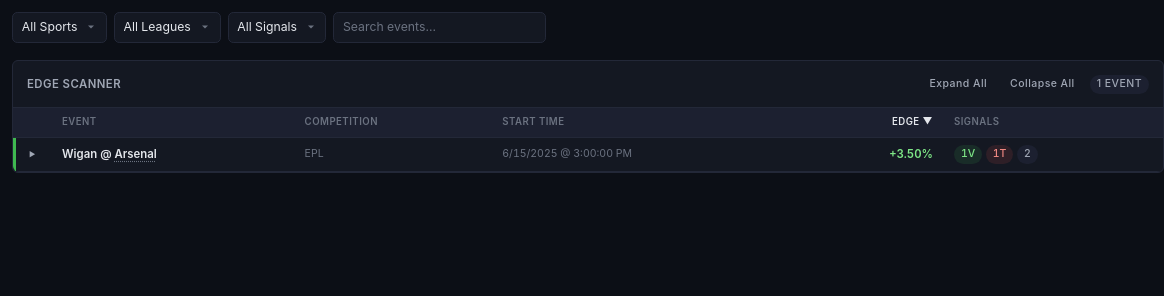
it: DashboardPage › Expand All / Collapse All buttons work
Click the button "Expand All": click(958, 84) [922,72,995,97]
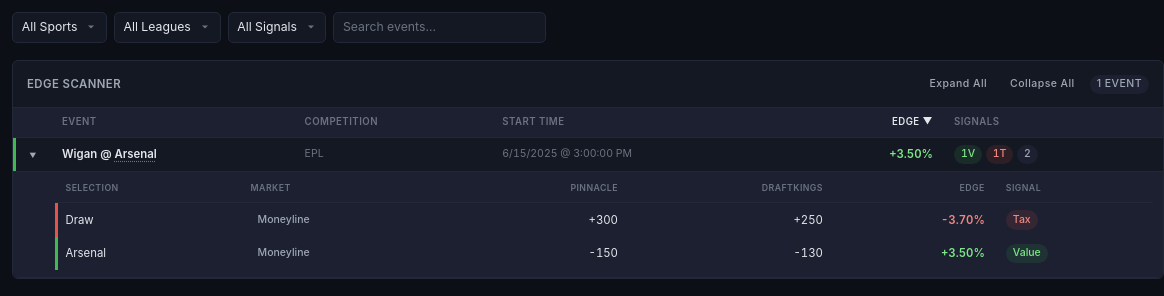
Expected: the text "Draw" is shown, [55,203,240,237]
Click the button "Collapse All": click(1042, 84) [1002,72,1083,97]
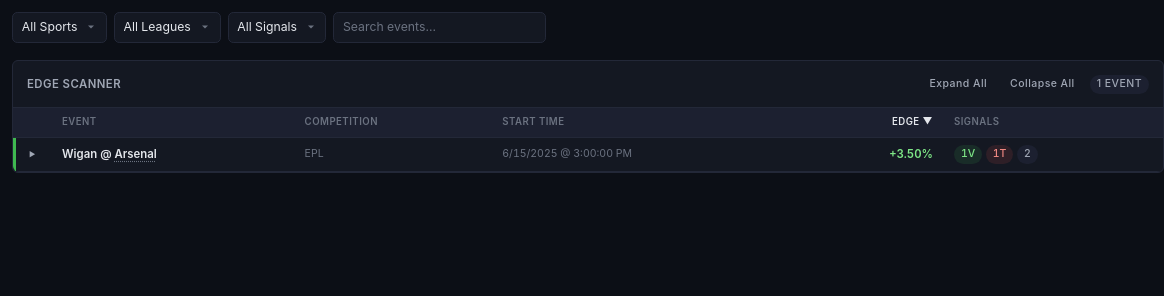
Expected: the text "Draw" is gone
